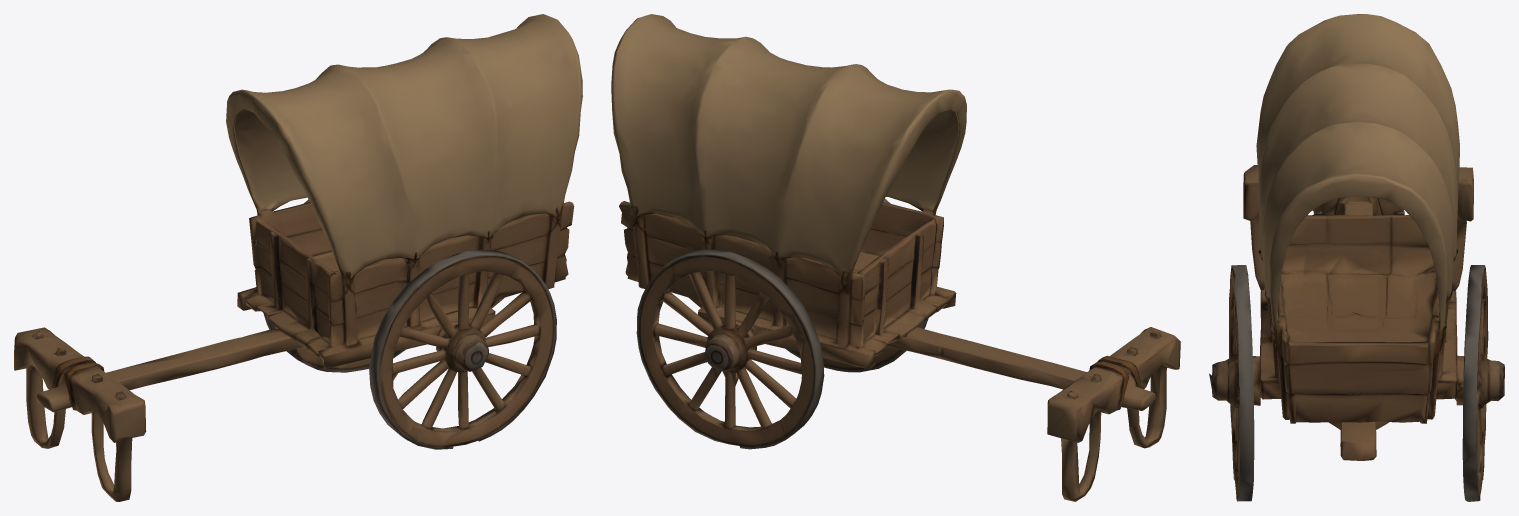
File: 5a83fbec-1bf7-4ab1-869a-25fe50f7a63a_model_url.glb
3 views of the same model, side by side, from view 1: azimuth 30°, elevation 25°; view 2: azimuth 150°, elevation 25°; view 3: azimuth 270°, elevation 25° (orthographic). The views are drawn at different scales.
Parts seen in each view (by area): view 1: tripo_node_5a83fbec-1bf7-4ab1-869a-25fe50f7a63a; view 2: tripo_node_5a83fbec-1bf7-4ab1-869a-25fe50f7a63a; view 3: tripo_node_5a83fbec-1bf7-4ab1-869a-25fe50f7a63a.
Boxes of the visible parts, x1,y1,x2,y2 form: tripo_node_5a83fbec-1bf7-4ab1-869a-25fe50f7a63a: (14,14,582,501); tripo_node_5a83fbec-1bf7-4ab1-869a-25fe50f7a63a: (611,14,1180,501); tripo_node_5a83fbec-1bf7-4ab1-869a-25fe50f7a63a: (1209,14,1504,501).
Size of the model in its own units: 1 by 0.6481 by 0.4404.
Materials: 1 (1 with a texture image).
